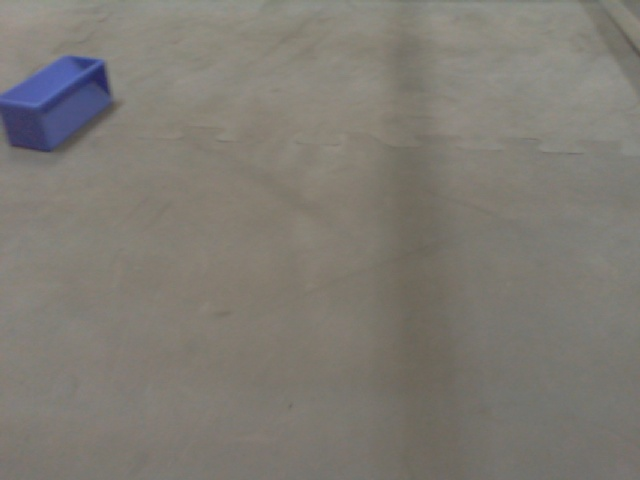BlueSample: (1, 50, 116, 156)
